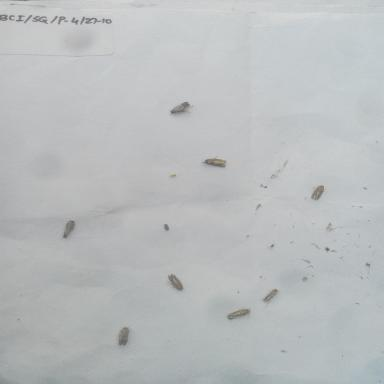pbw: (162, 270, 188, 294), (112, 322, 136, 348), (58, 217, 79, 241), (170, 98, 194, 118), (258, 287, 280, 307), (200, 154, 231, 168), (311, 180, 330, 200), (223, 308, 254, 320)
